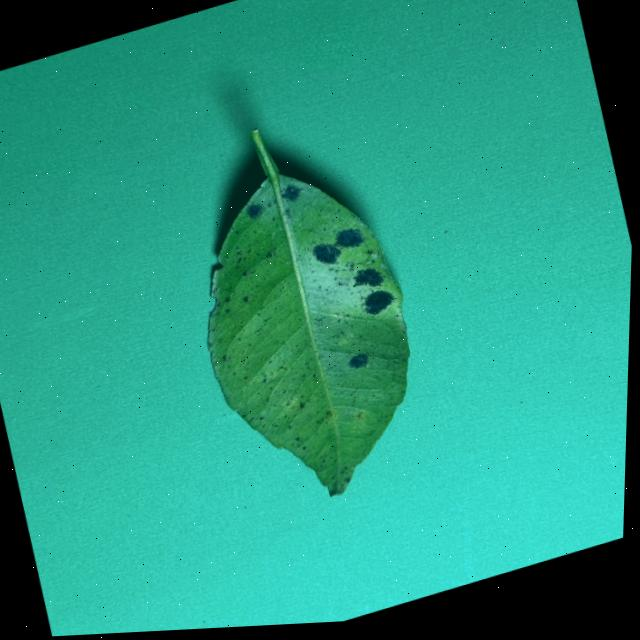sooty_mold: (206, 129, 407, 495)
